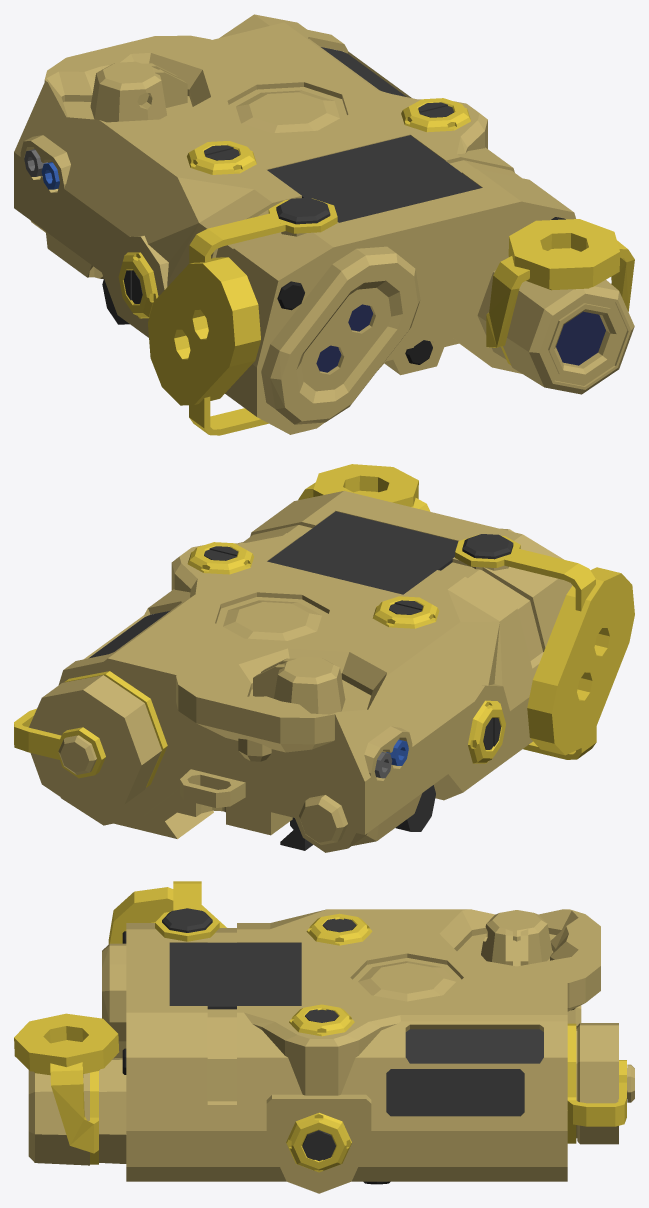
The model's file is laser.glb.
The picture shows the model from 3 angles, top to bottom: view 1: azimuth 30°, elevation 25°; view 2: azimuth 150°, elevation 25°; view 3: azimuth 270°, elevation 25°; orthographic projection. The views are drawn at different scales.
Parts seen in each view (by area): view 1: ATPIAL AN PEQ-15 1_ATPIAL AN PEQ-15 1 Material 1_0, ATPIAL AN PEQ-15 1_ATPIAL AN PEQ-15 1 Material 3_0, ATPIAL AN PEQ-15 1_ATPIAL AN PEQ-15 1 Material 5_0, ATPIAL AN PEQ-15 1_ATPIAL AN PEQ-15 1 Material 8_0, ATPIAL AN PEQ-15 1_ATPIAL AN PEQ-15 1 Material 2_0; view 2: ATPIAL AN PEQ-15 1_ATPIAL AN PEQ-15 1 Material 1_0, ATPIAL AN PEQ-15 1_ATPIAL AN PEQ-15 1 Material 3_0, ATPIAL AN PEQ-15 1_ATPIAL AN PEQ-15 1 Material 5_0; view 3: ATPIAL AN PEQ-15 1_ATPIAL AN PEQ-15 1 Material 1_0, ATPIAL AN PEQ-15 1_ATPIAL AN PEQ-15 1 Material 5_0, ATPIAL AN PEQ-15 1_ATPIAL AN PEQ-15 1 Material 3_0.
Boxes of the visible parts, bbox=[...] form: ATPIAL AN PEQ-15 1_ATPIAL AN PEQ-15 1 Material 1_0: bbox=[14, 14, 634, 434]; ATPIAL AN PEQ-15 1_ATPIAL AN PEQ-15 1 Material 3_0: bbox=[118, 98, 634, 435]; ATPIAL AN PEQ-15 1_ATPIAL AN PEQ-15 1 Material 5_0: bbox=[102, 47, 481, 324]; ATPIAL AN PEQ-15 1_ATPIAL AN PEQ-15 1 Material 8_0: bbox=[316, 304, 605, 372]; ATPIAL AN PEQ-15 1_ATPIAL AN PEQ-15 1 Material 2_0: bbox=[277, 217, 565, 364]; ATPIAL AN PEQ-15 1_ATPIAL AN PEQ-15 1 Material 1_0: bbox=[29, 491, 572, 852]; ATPIAL AN PEQ-15 1_ATPIAL AN PEQ-15 1 Material 3_0: bbox=[14, 464, 634, 787]; ATPIAL AN PEQ-15 1_ATPIAL AN PEQ-15 1 Material 5_0: bbox=[89, 511, 513, 850]; ATPIAL AN PEQ-15 1_ATPIAL AN PEQ-15 1 Material 1_0: bbox=[28, 909, 634, 1193]; ATPIAL AN PEQ-15 1_ATPIAL AN PEQ-15 1 Material 5_0: bbox=[162, 908, 543, 1160]; ATPIAL AN PEQ-15 1_ATPIAL AN PEQ-15 1 Material 3_0: bbox=[14, 881, 626, 1172].
Bounding box in the file's own units: 0.0828 × 0.0433 × 0.13.
